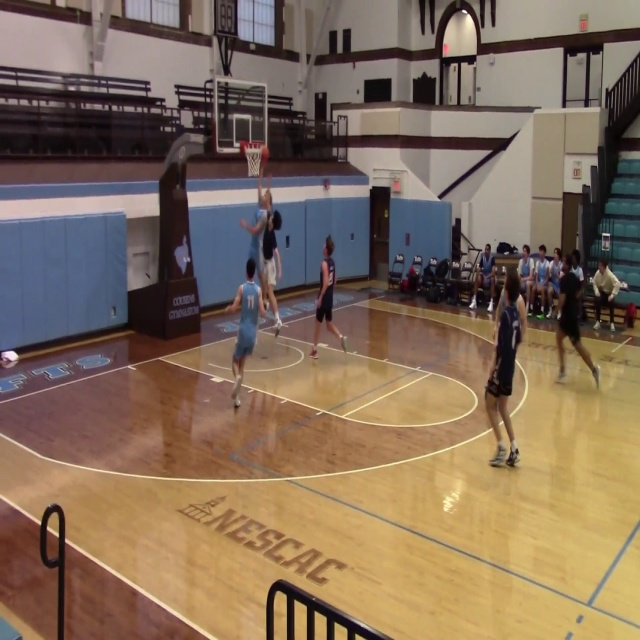Basketball: (239, 141, 268, 178), (239, 141, 269, 163), (1, 350, 18, 362)
